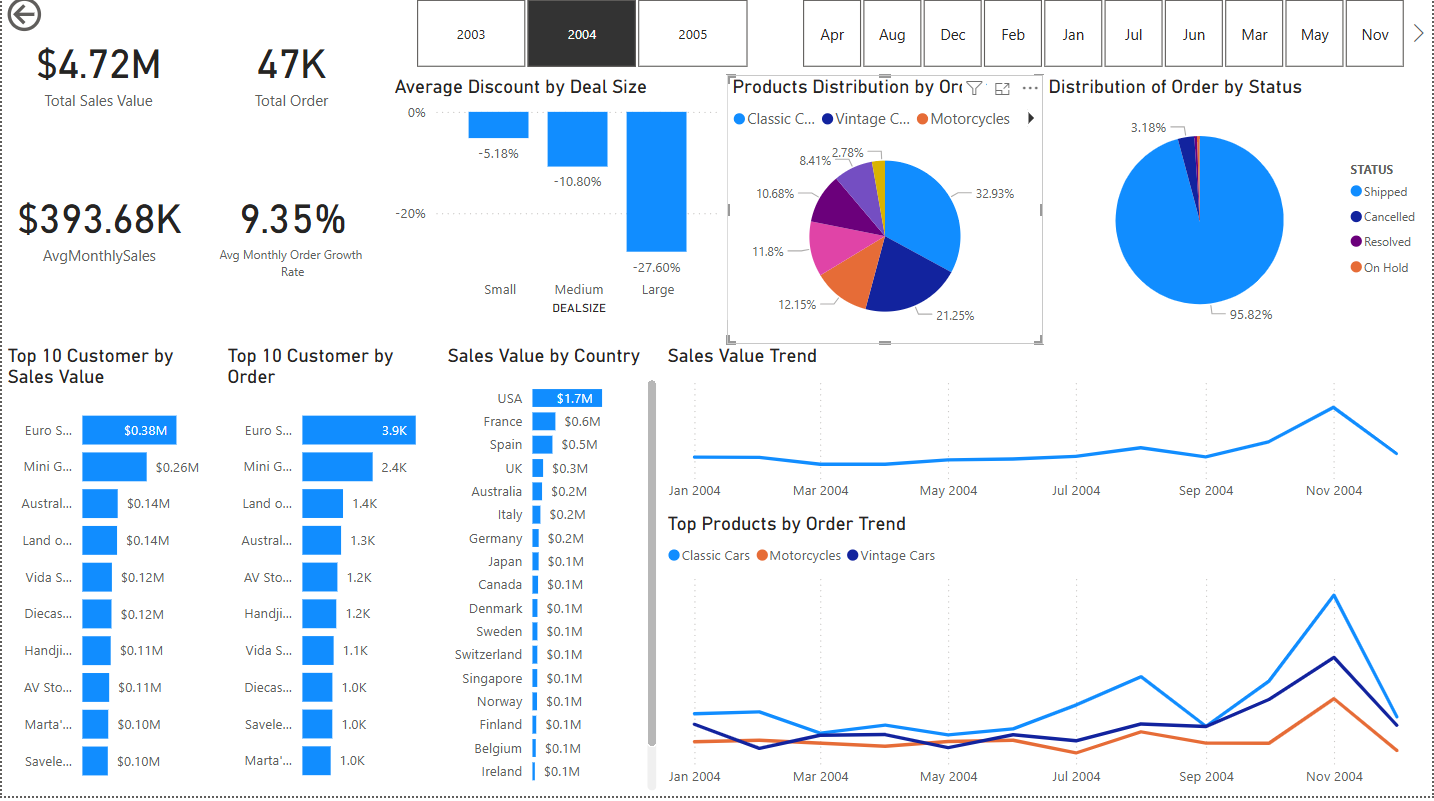

What the dashboard file says about the page in this screenshot:
{"tool":"powerbi","page":{"name":"Page 1","canvas":[1280,720],"ordinal":0},"visuals":[{"type":"card","fields":{"Values":["Sum(Sheet1.SALES)"]},"box":[0,0,172.8,138.8],"z":0},{"type":"card","fields":{"Values":["Sum(Sheet1.QUANTITYORDERED)"]},"box":[172.8,0,172.8,138.8],"z":1000},{"type":"slicer","fields":{"Values":["Sheet1.YEAR_ID"]},"box":[345.7,0,345.7,74.3],"z":2000},{"type":"slicer","fields":{"Values":["Sheet1.MonthName"]},"box":[691.3,0,588.4,74.3],"z":3000},{"type":"lineChart","title":"Sales Value Trend","fields":{"Y":["Sum(Sheet1.SALES)"],"Category":["Sheet1.ORDERDATE.Variation.Date Hierarchy.Year","Sheet1.ORDERDATE.Variation.Date Hierarchy.Month"]},"box":[591,315.2,688.7,149.6],"z":4000},{"type":"lineChart","title":"Top Products by Order Trend","fields":{"Series":["Sheet1.PRODUCTLINE"],"Y":["Sum(Sheet1.QUANTITYORDERED)"],"Category":["Sheet1.ORDERDATE.Variation.Date Hierarchy.Year","Sheet1.ORDERDATE.Variation.Date Hierarchy.Month"]},"box":[590.9,465.5,689.1,254.5],"z":5000},{"type":"card","fields":{"Values":["Sheet1.AvgMonthlySales"]},"box":[0.8,139.2,172.5,138.3],"z":6000},{"type":"barChart","title":"Top 10 Customer by Sales Value","fields":{"Category":["Sheet1.CUSTOMERNAME"],"Y":["Sum(Sheet1.SALES)"]},"box":[0,315,196.7,405],"z":7000},{"type":"barChart","title":"Top 10 Customer by Order","fields":{"Category":["Sheet1.CUSTOMERNAME"],"Y":["Sum(Sheet1.QUANTITYORDERED)"]},"box":[197,315.2,197,404.8],"z":8000},{"type":"pieChart","title":"Products Distribution by Order","fields":{"Category":["Sheet1.PRODUCTLINE"],"Y":["Sum(Sheet1.QUANTITYORDERED)"]},"box":[649.3,74.3,283,240.9],"z":9000},{"type":"pieChart","title":"Distribution of Order by Status","fields":{"Category":["Sheet1.STATUS"],"Y":["Sum(Sheet1.QUANTITYORDERED)"]},"box":[932.2,74.3,347.5,240.9],"z":10000},{"type":"columnChart","title":"Average Discount by Deal Size","fields":{"Category":["Sheet1.DEALSIZE"],"Y":["Avg(Sheet1.PriceDifference%)"]},"box":[346.6,74.3,302.7,219.4],"z":11000},{"type":"barChart","title":"Sales Value by Country","fields":{"Y":["Sum(Sheet1.SALES)"],"Category":["Sheet1.COUNTRY","Sheet1.CITY"]},"box":[394,315.2,197,404.8],"z":12000},{"type":"actionButton","box":[0,0,100,40],"z":13000},{"type":"card","fields":{"Values":["Sheet1.AvgMoMGrowth"]},"box":[173.7,138.8,172.8,137.9],"z":14000}]}

Visuals, with their boxes in screenshot pixels (x1, y1, x2, y2), scaled from the page's 1280x720 canvas onto the 1434x801 screenshot:
card - Sum(Sheet1.SALES): 0 0 194 154
card - Sum(Sheet1.QUANTITYORDERED): 194 0 387 154
slicer - Sheet1.YEAR_ID: 387 0 775 83
slicer - Sheet1.MonthName: 774 0 1433 83
"Sales Value Trend" lineChart: 662 351 1433 517
"Top Products by Order Trend" lineChart: 662 518 1433 800
card - Sheet1.AvgMonthlySales: 1 155 194 309
"Top 10 Customer by Sales Value" barChart: 0 350 220 800
"Top 10 Customer by Order" barChart: 221 351 441 800
"Products Distribution by Order" pieChart: 727 83 1044 351
"Distribution of Order by Status" pieChart: 1044 83 1433 351
"Average Discount by Deal Size" columnChart: 388 83 727 327
"Sales Value by Country" barChart: 441 351 662 800
actionButton: 0 0 112 44
card - Sheet1.AvgMoMGrowth: 195 154 388 308
